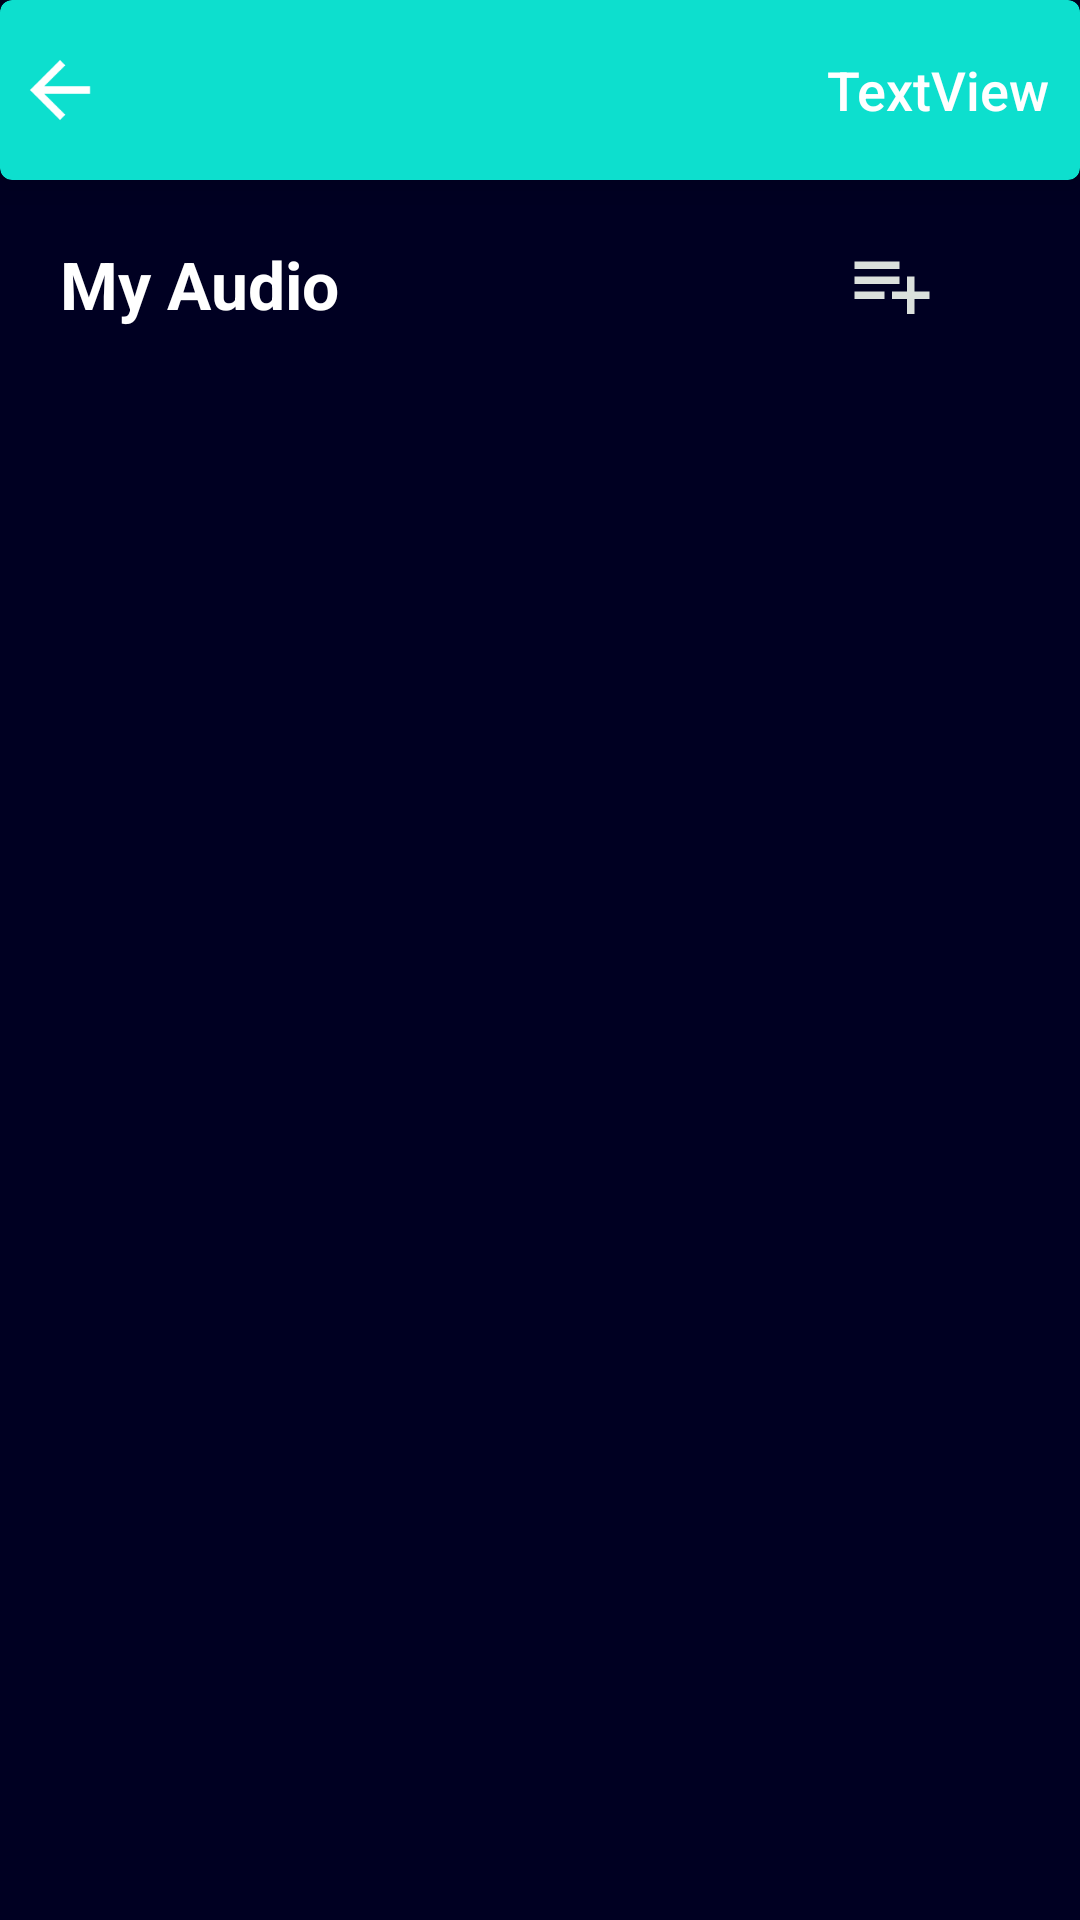

Icons on this 1080px×1920px Android screen, each with its box as {"x1": x1, "y1": y1, "x2": x2, "y2": y2}:
add: {"x1": 854, "y1": 261, "x2": 930, "y2": 314}
